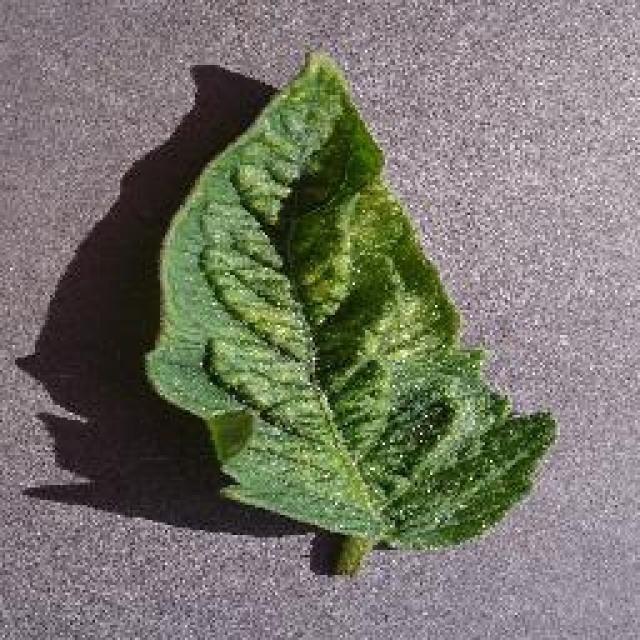Tomato___Spider_mites Two-spotted_spider_mite: (145, 52, 552, 570)
